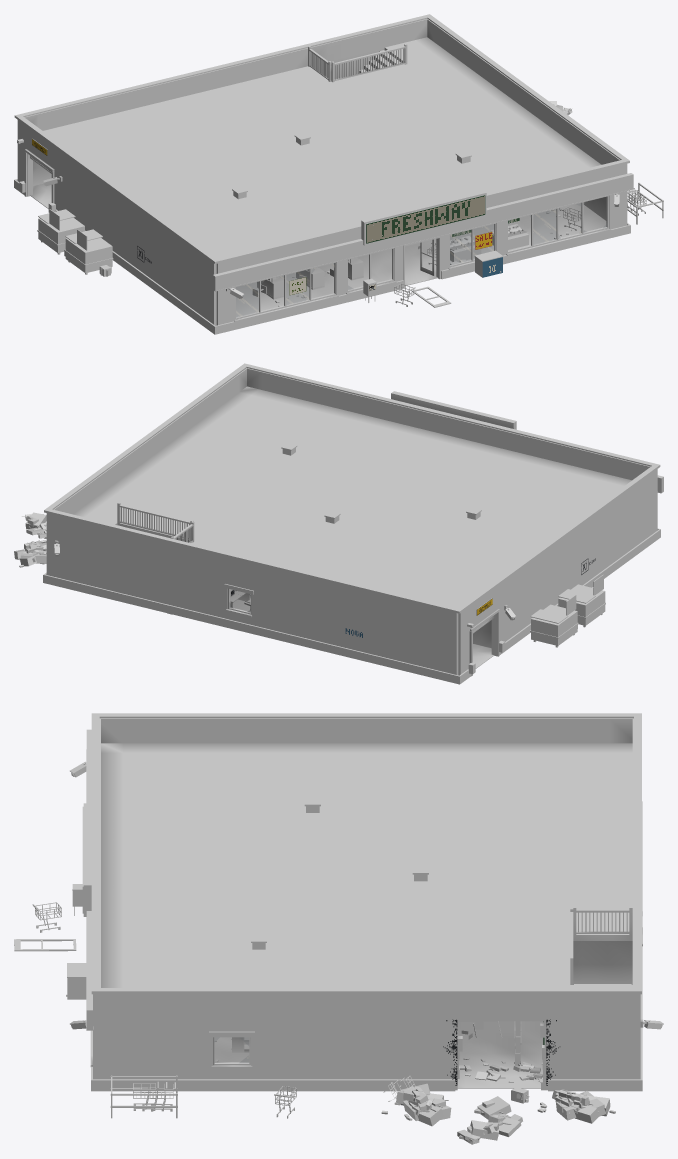
Rendered from grocery.glb.
3 renders of one model, top to bottom at view 1: azimuth 30°, elevation 25°; view 2: azimuth 150°, elevation 25°; view 3: azimuth 270°, elevation 25°, orthographic. The views are drawn at different scales.
Visible parts, largest first — view 1: grocery; view 2: grocery; view 3: grocery.
Part boxes in pixels (x1=…): grocery: x1=14, y1=14, x2=663, y2=334; grocery: x1=14, y1=363, x2=663, y2=684; grocery: x1=14, y1=713, x2=663, y2=1144.
Size of the model in its own units: 31.49 by 4.64 by 24.1.
4 materials, 3 textured.
